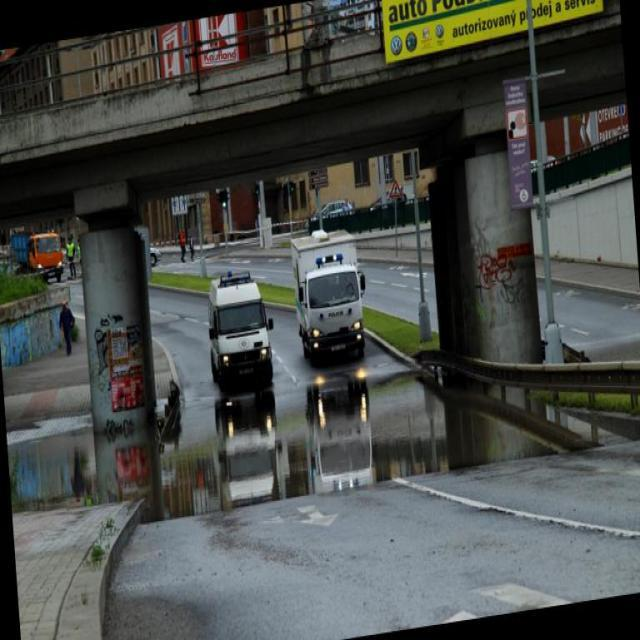flood: (155, 363, 522, 515)
